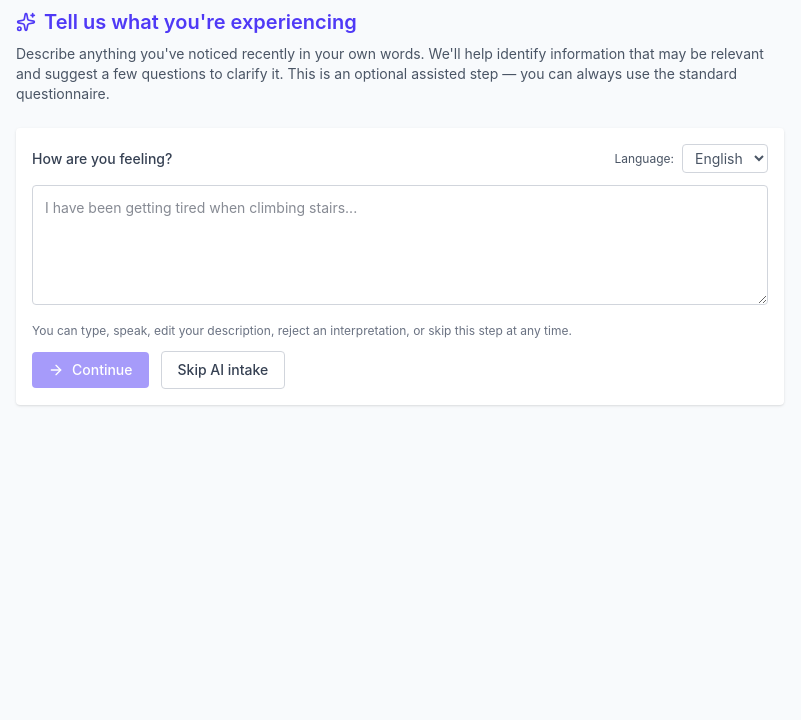
Scenario: IntakePage › lets the user edit their description after results
Type "tired" into the text box. click: (400, 245)
box: [32,185,768,305]
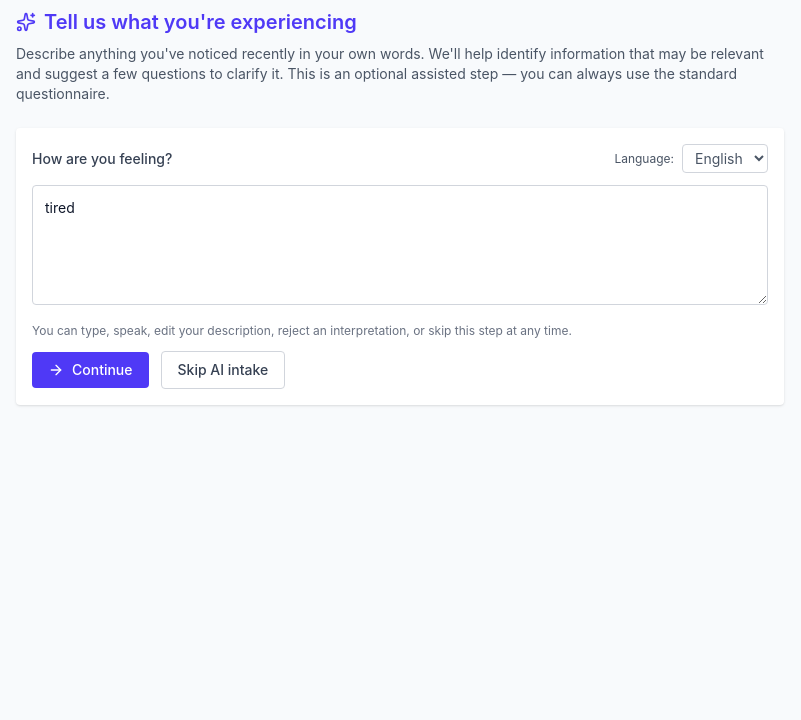
Click the button "Continue". click: (90, 370)
box: [32,352,148,388]
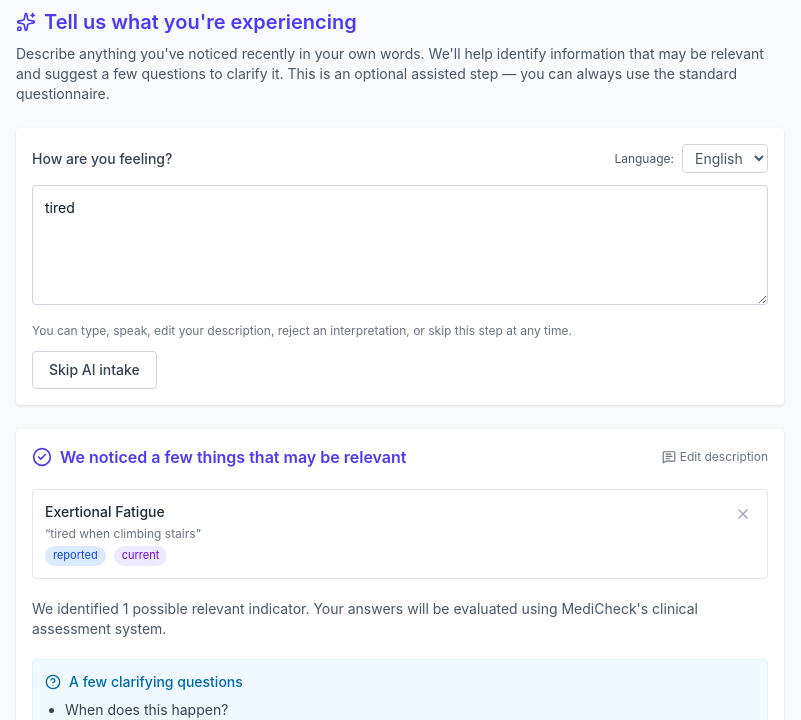
Expected: the text "Exertional Fatigue" is shown, [45,503,165,520]
Click the button "Edit description". click: (715, 457)
box: [662,449,768,465]
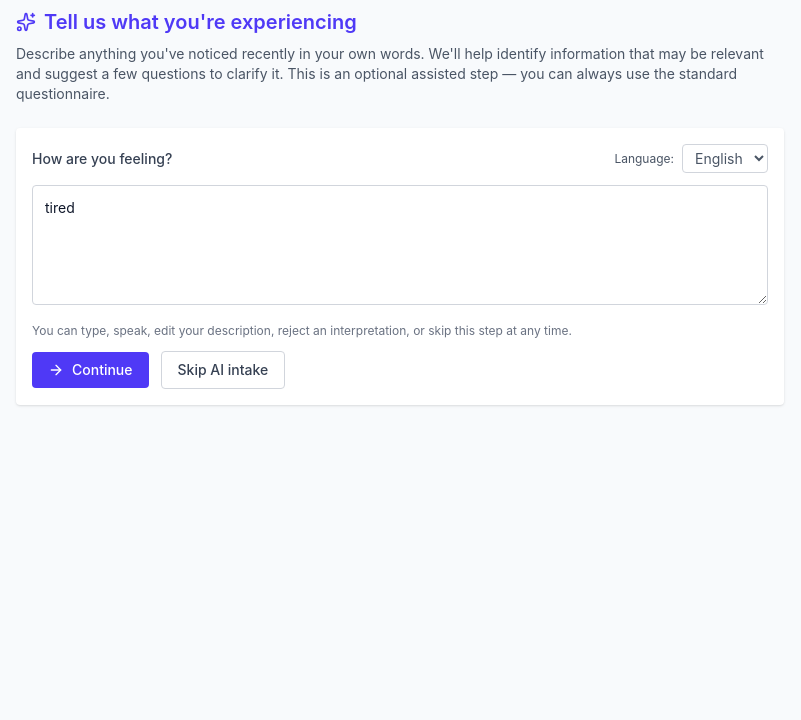
Expected: the heading "We noticed a few things" is gone
